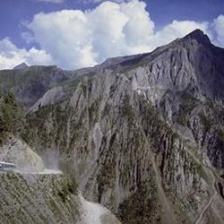neutral: (4, 14, 224, 222)
